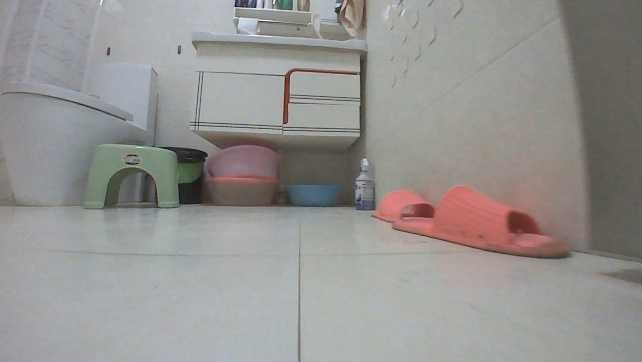plastic_stool: (81, 142, 181, 211)
slipper: (394, 184, 577, 261), (369, 183, 437, 224)
toilet: (0, 60, 157, 207)
washstand: (186, 29, 374, 149)
